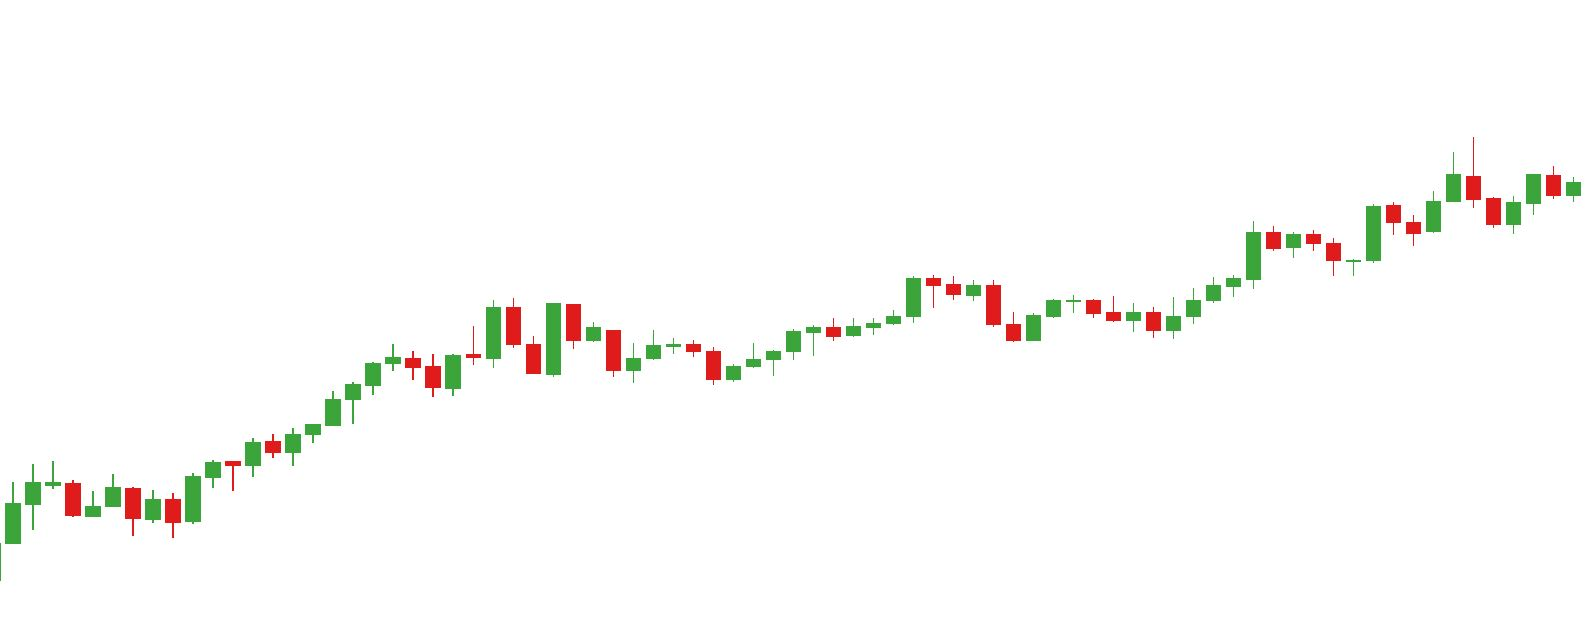buy: (1005, 307, 1182, 347)
